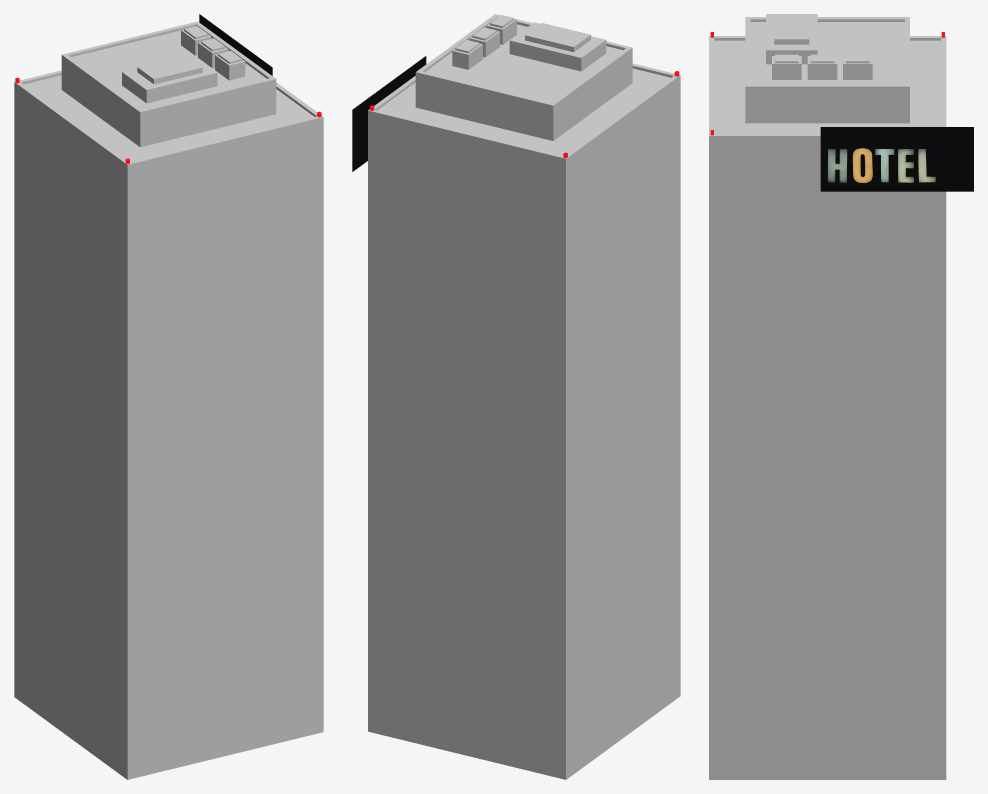
The model's file is blocky-building_nt.glb.
3 views of the same model, side by side, from view 1: azimuth 30°, elevation 25°; view 2: azimuth 150°, elevation 25°; view 3: azimuth 270°, elevation 25° (orthographic). The views are drawn at different scales.
Visible parts, largest first — view 1: 立方体.044; view 2: 立方体.044; view 3: 立方体.044.
Part boxes in pixels (box(x1,y1,x2,y2)): 立方体.044: box(14, 14, 323, 779); 立方体.044: box(352, 14, 680, 779); 立方体.044: box(709, 14, 973, 779).
Size of the model in its own units: 9.34 by 29.86 by 10.32.
3 materials, 1 textured.
